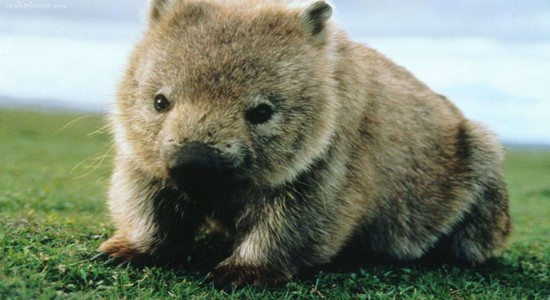Wombat: (93, 0, 512, 290)
